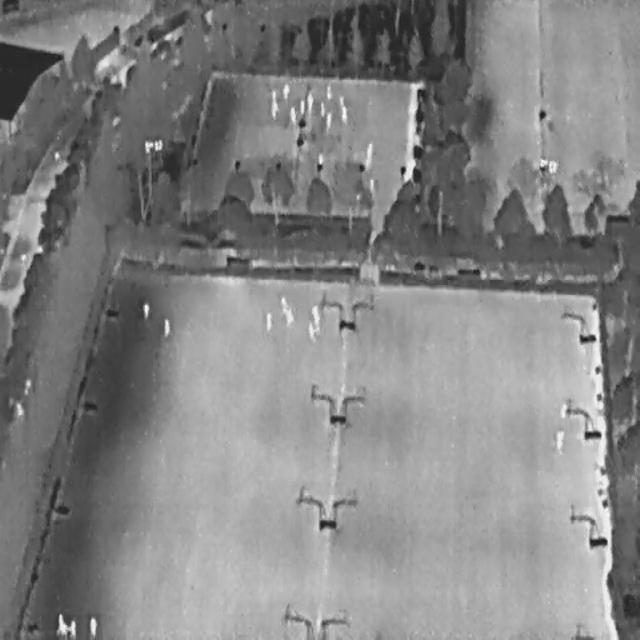Person: (54, 610, 68, 638), (307, 302, 322, 328), (553, 428, 566, 454), (86, 612, 97, 636), (364, 139, 374, 165), (160, 317, 171, 338), (306, 320, 317, 341), (304, 91, 313, 114), (67, 616, 77, 636), (281, 80, 290, 100), (285, 308, 294, 328), (278, 294, 289, 310), (141, 301, 150, 320), (324, 111, 332, 132), (269, 101, 278, 119), (287, 106, 296, 124), (296, 98, 306, 114), (325, 81, 333, 101), (264, 311, 272, 331), (340, 104, 347, 125), (269, 88, 278, 104), (317, 101, 325, 118), (559, 402, 567, 418), (336, 92, 344, 106), (367, 178, 375, 192), (316, 150, 323, 165)
